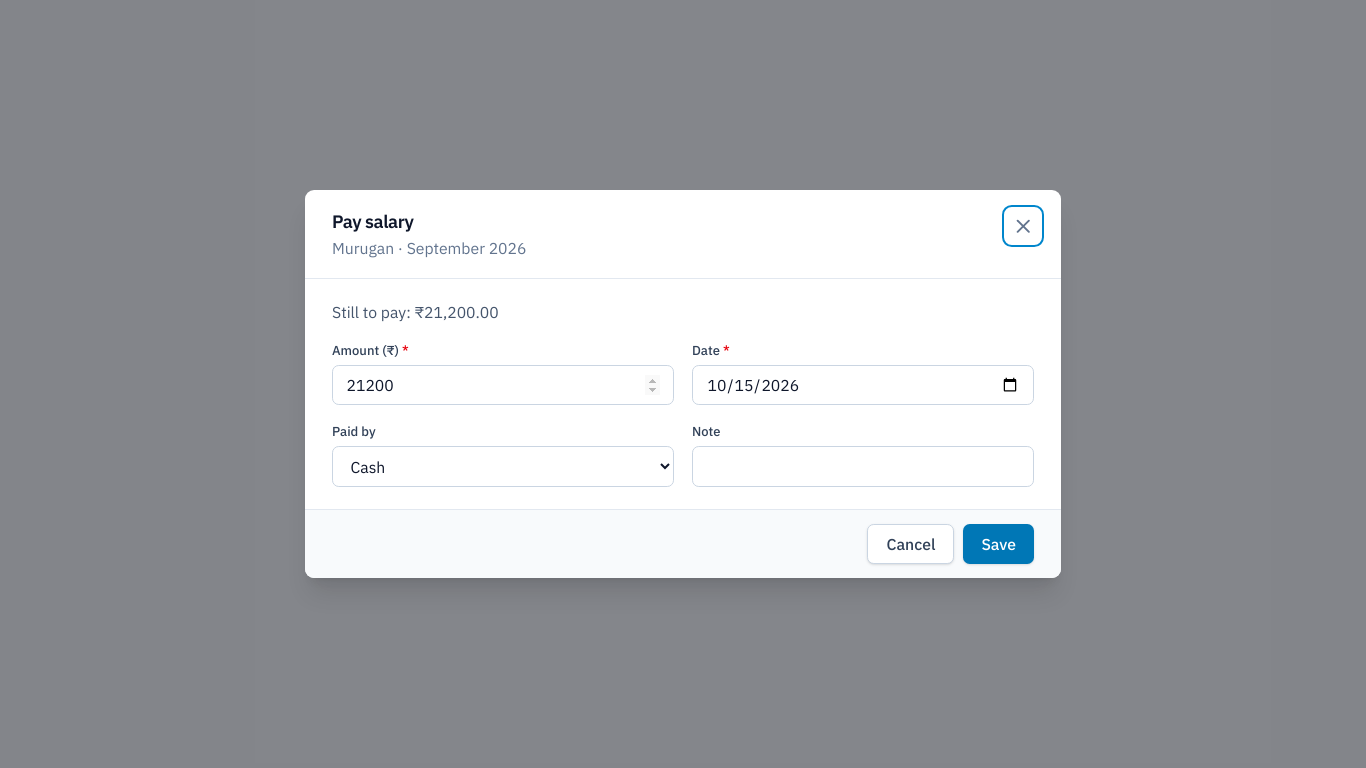
paying salary › warns about a round-off over ₹100
The image size is (1366, 768).
Replace the text in the number field labelled "Amount" with "21000" at x=503, y=385, box top-left (332, 365), bottom-right (674, 405)
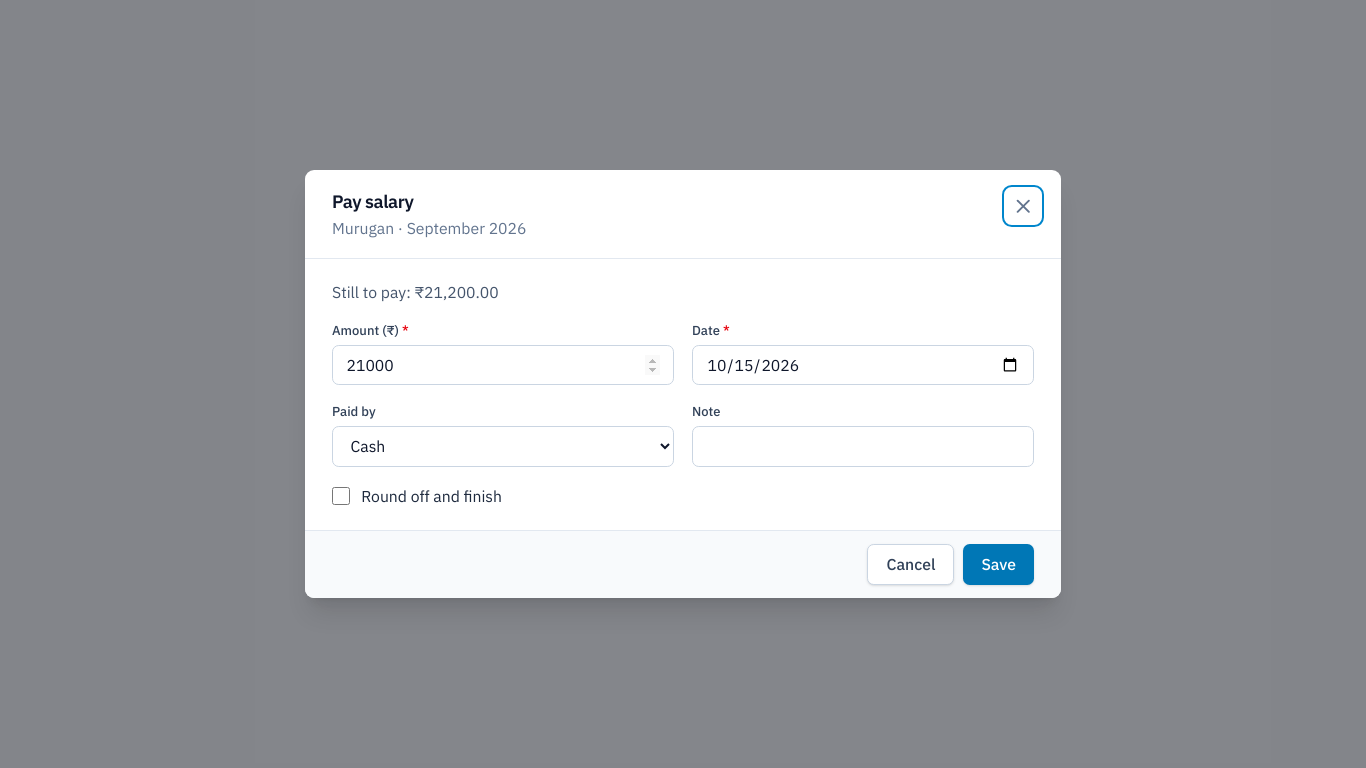
Click the checkbox labelled "Round off and finish".
click(341, 496)  # box top-left (332, 487), bottom-right (350, 505)
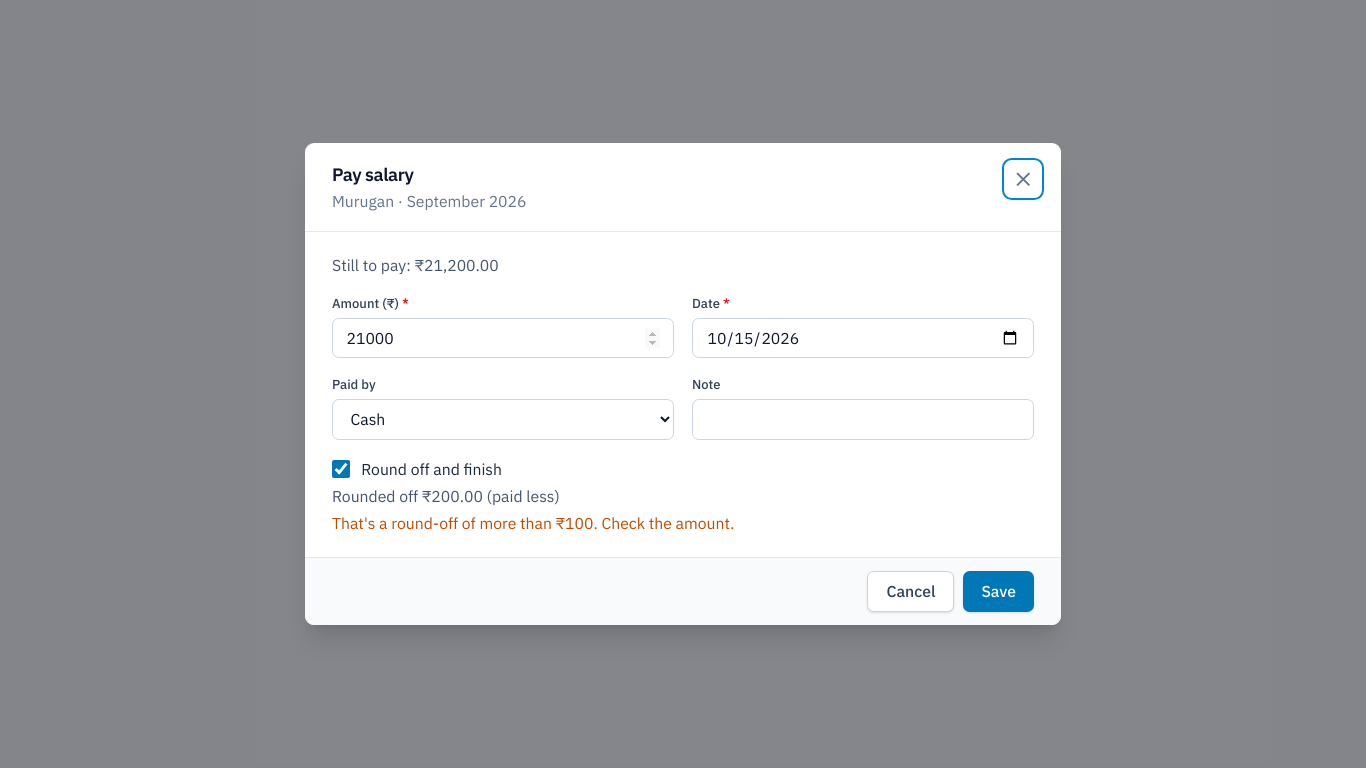
Check: the text "That's a round-off of more than ₹100. Check the amount." is shown, box top-left (332, 513), bottom-right (734, 533)
